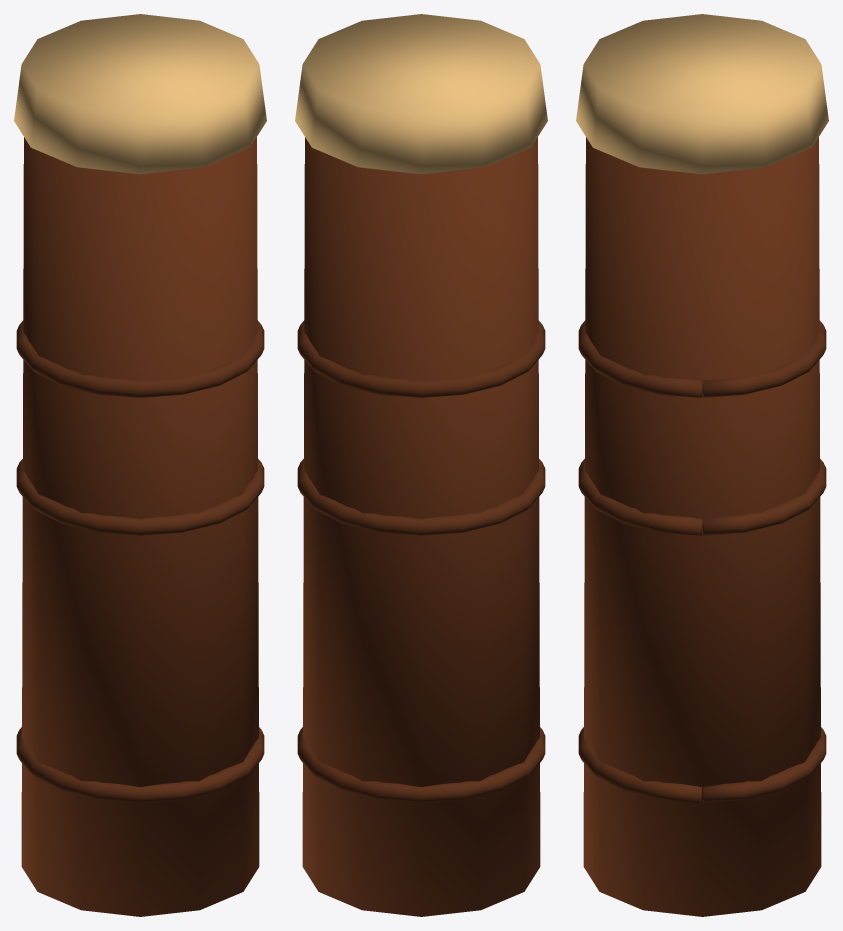
File: dock-post-Bbk1cdS7.glb
The picture shows the model from 3 angles, left to right: view 1: azimuth 30°, elevation 25°; view 2: azimuth 150°, elevation 25°; view 3: azimuth 270°, elevation 25°; orthographic projection.
Visible parts, largest first — view 1: dock-post; view 2: dock-post; view 3: dock-post.
Boxes of the visible parts, <box> form: dock-post: <box>14,14,266,916</box>; dock-post: <box>295,14,547,916</box>; dock-post: <box>576,14,828,916</box>.
Size of the model in its own units: 0.38 by 1.33 by 0.38.
